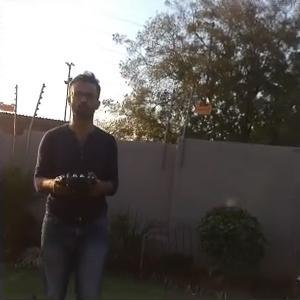follow: (31, 66, 122, 298)
